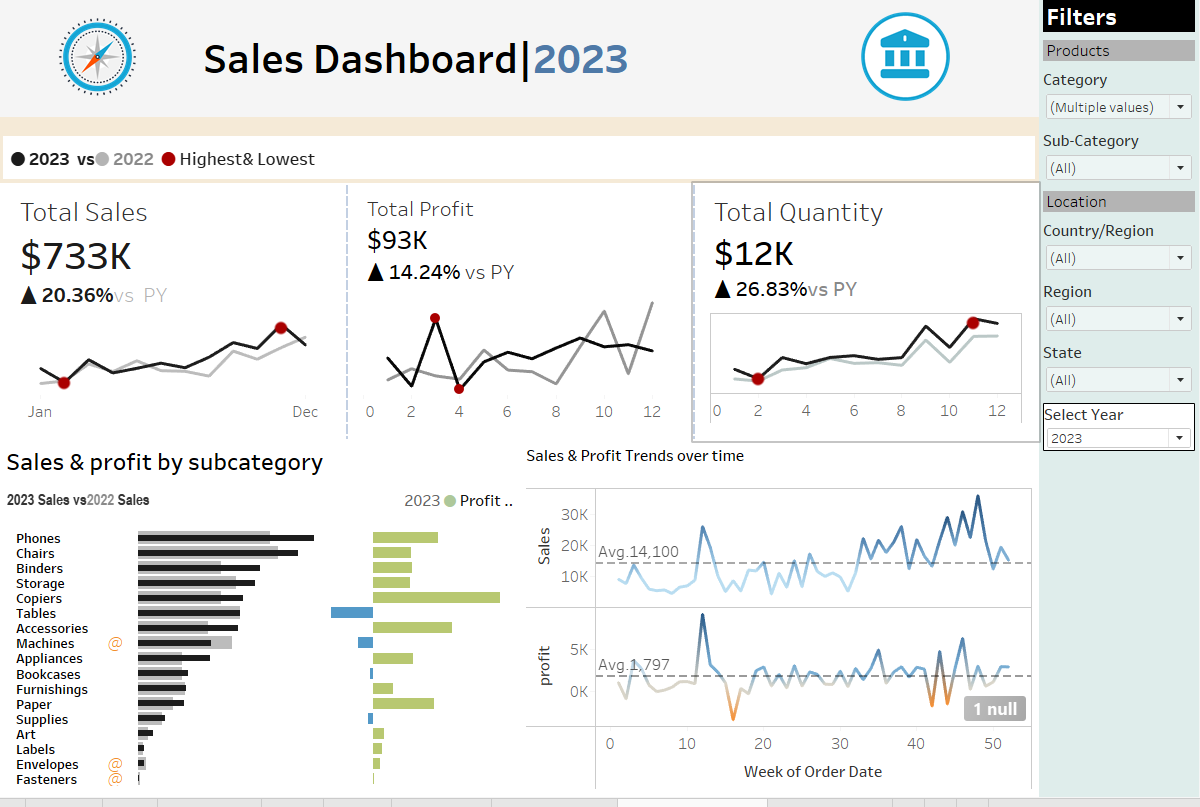

The page's visual inventory and layout, read from the dashboard file:
{"tool":"tableau","page":{"name":"sales dashboard","canvas":[1200,801],"ordinal":1},"visuals":[{"type":"image","param":"Image/Icon - Logo.png","box":[0,0,197.5,121]},{"type":"text","box":[197.5,0,574,121]},{"type":"dashboard-object","box":[772,0,268,121]},{"type":"text","box":[1040,0,160,40]},{"type":"text","box":[1040,40,160,29]},{"type":"filter","title":"Sales","param":"[federated.0i2d9lq0c50n6t11n3oc904pafzc].[none:Category:nk]","box":[1040,69,160,61]},{"type":"worksheet","title":"Legend  KPI","mark":"Automatic","box":[0,121,1040,66]},{"type":"filter","title":"Sales","param":"[federated.0i2d9lq0c50n6t11n3oc904pafzc].[none:Sub-Category:nk]","box":[1040,130,160,61]},{"type":"worksheet","title":"Sales","mark":"Line","rows":["Calculation_1172906250429345797"],"cols":["Order Date"],"box":[0,187,347,258]},{"type":"worksheet","title":"profit","mark":"Automatic","rows":["Calculation_1315051116208787461"],"cols":["Order Date"],"box":[347,187,347,258]},{"type":"worksheet","title":"Quantity","mark":"Line","rows":["Calculation_881579651386454026"],"cols":["Order Date"],"box":[694,187,346,258]},{"type":"text","box":[1040,191,160,29]},{"type":"filter","title":"Sales","param":"[federated.0i2d9lq0c50n6t11n3oc904pafzc].[none:Country/Region:nk]","box":[1040,220,160,61]},{"type":"filter","title":"Sales","param":"[federated.0i2d9lq0c50n6t11n3oc904pafzc].[none:Region:nk]","box":[1040,281,160,61]},{"type":"filter","title":"Sales","param":"[federated.0i2d9lq0c50n6t11n3oc904pafzc].[none:State:nk]","box":[1040,342,160,61]},{"type":"parameter","param":"[Parameters].[Parameter 1]","box":[1040,403,160,56]},{"type":"text","box":[0,445,520,40]},{"type":"text","box":[520,445,520,29]},{"type":"worksheet","title":"Legend","mark":"Automatic","box":[0,485,398,38]},{"type":"text","box":[398,485,122,38]},{"type":"worksheet","title":"trends","mark":"Automatic","rows":["Calculation_1172906250419269632","Calculation_1315051116202053632"],"cols":["Order Date"],"box":[520,485.2,520,315.8]},{"type":"worksheet","title":"subcategory","mark":"Bar","rows":["Sub-Category","Calculation_1315051116220178445"],"cols":["Current_year (copy)_1172906250419982337","Calculation_1172906250419269632","Calculation_1315051116202053632"],"box":[0,523,520,277.9]}]}

Visuals, with their boxes in screenshot pixels (x1, y1, x2, y2), scaled from the page's 1200x801 canvas onto the 1200x807 screenshot:
image: pyautogui.locateOnScreen(0, 0, 198, 122)
text: pyautogui.locateOnScreen(198, 0, 772, 122)
dashboard-object: pyautogui.locateOnScreen(772, 0, 1040, 122)
text: pyautogui.locateOnScreen(1040, 0, 1199, 40)
text: pyautogui.locateOnScreen(1040, 40, 1199, 70)
"Sales" filter: pyautogui.locateOnScreen(1040, 70, 1199, 131)
"Legend  KPI" worksheet: pyautogui.locateOnScreen(0, 122, 1040, 188)
"Sales" filter: pyautogui.locateOnScreen(1040, 131, 1199, 192)
"Sales" worksheet (Line marks): pyautogui.locateOnScreen(0, 188, 347, 448)
"profit" worksheet: pyautogui.locateOnScreen(347, 188, 694, 448)
"Quantity" worksheet (Line marks): pyautogui.locateOnScreen(694, 188, 1040, 448)
text: pyautogui.locateOnScreen(1040, 192, 1199, 222)
"Sales" filter: pyautogui.locateOnScreen(1040, 222, 1199, 283)
"Sales" filter: pyautogui.locateOnScreen(1040, 283, 1199, 345)
"Sales" filter: pyautogui.locateOnScreen(1040, 345, 1199, 406)
parameter: pyautogui.locateOnScreen(1040, 406, 1199, 462)
text: pyautogui.locateOnScreen(0, 448, 520, 489)
text: pyautogui.locateOnScreen(520, 448, 1040, 478)
"Legend" worksheet: pyautogui.locateOnScreen(0, 489, 398, 527)
text: pyautogui.locateOnScreen(398, 489, 520, 527)
"trends" worksheet: pyautogui.locateOnScreen(520, 489, 1040, 806)
"subcategory" worksheet (Bar marks): pyautogui.locateOnScreen(0, 527, 520, 806)
